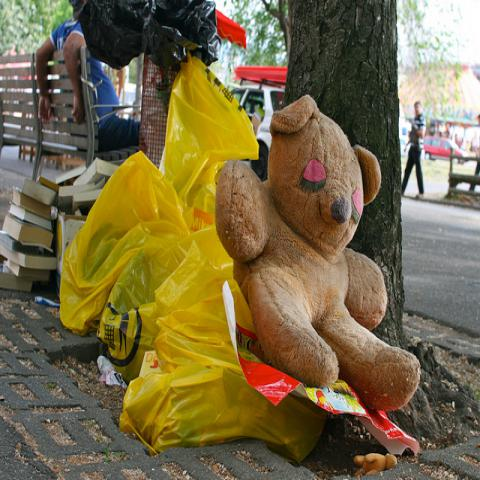car: (226, 74, 285, 182), (422, 135, 470, 160)
